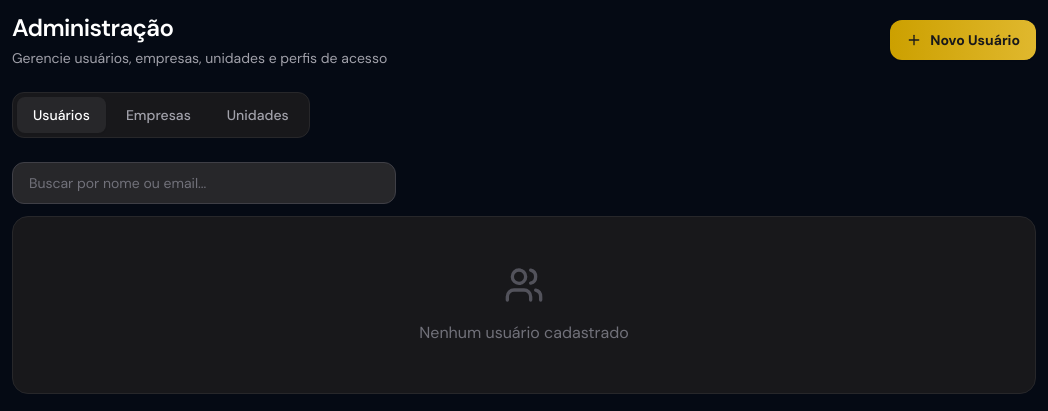
it: AdminPage portal — apagar empresa em definitivo › empresa soft-deletada mostra Restaurar + Apagar definitivo
This screenshot has width=1048, height=411.
Click the button "Empresas" at {"x": 158, "y": 115}, box [110,97,207,133]
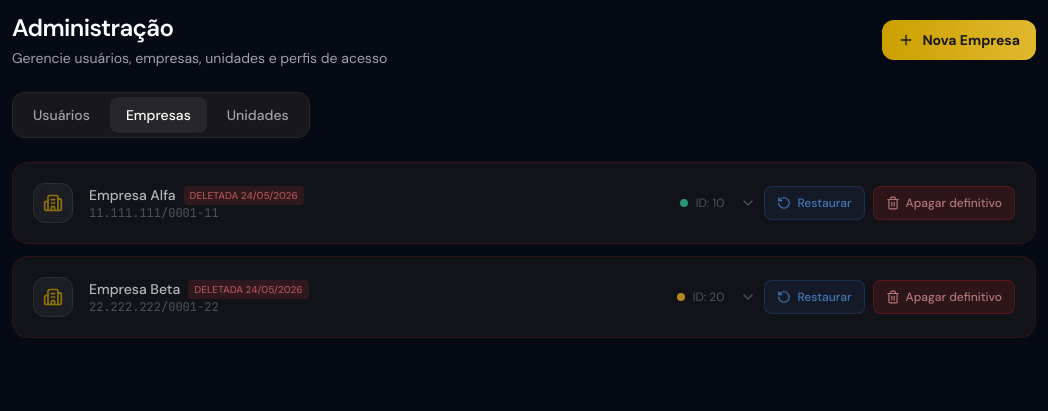
Expected: the button with aria-label "Restaurar Empresa Alfa" is shown, [764,186,865,220]
Expected: the button with aria-label "Apagar Empresa Alfa em definitivo" is shown, [873,186,1015,220]
